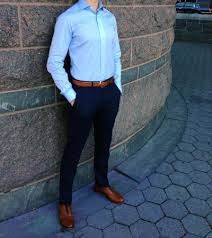F_belt: (69, 73, 122, 93)
F_dress pants: (55, 87, 126, 209)
